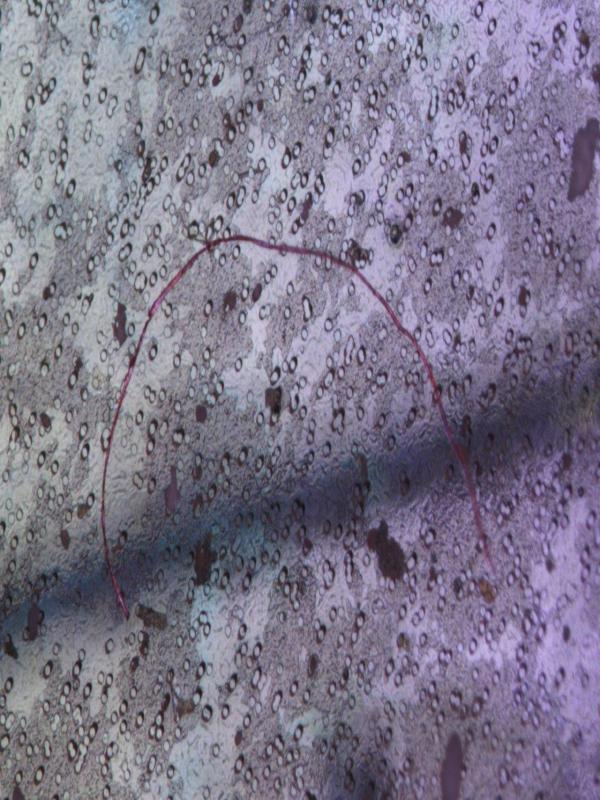microplastic: (1, 1, 598, 796), (99, 223, 498, 621)
